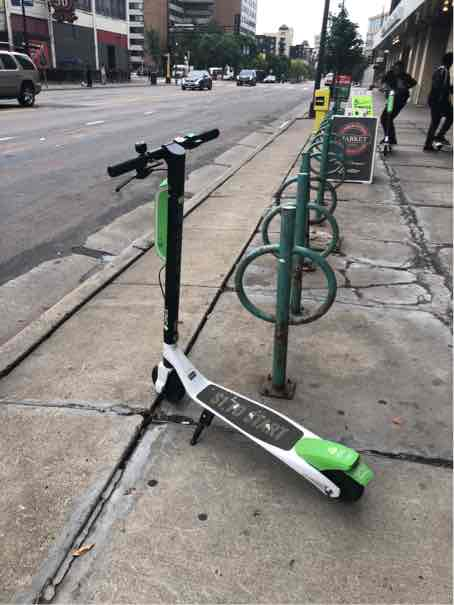scooter: (98, 122, 372, 506)
